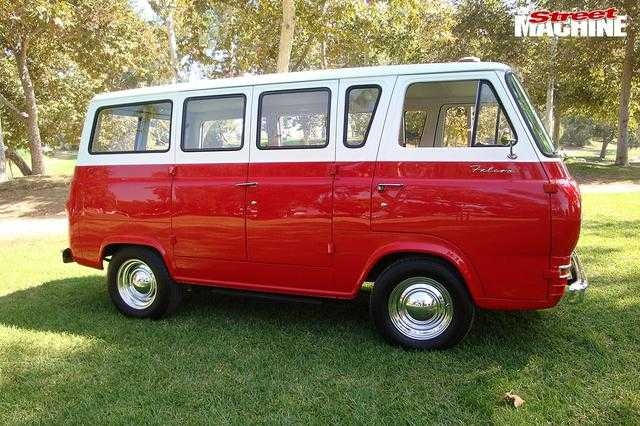van: (62, 61, 587, 352)
